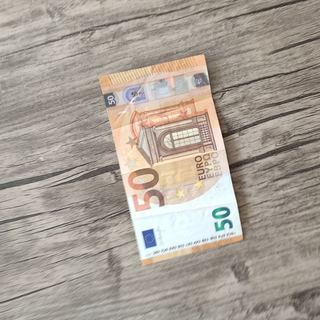50EUROFront: (97, 52, 245, 268)
